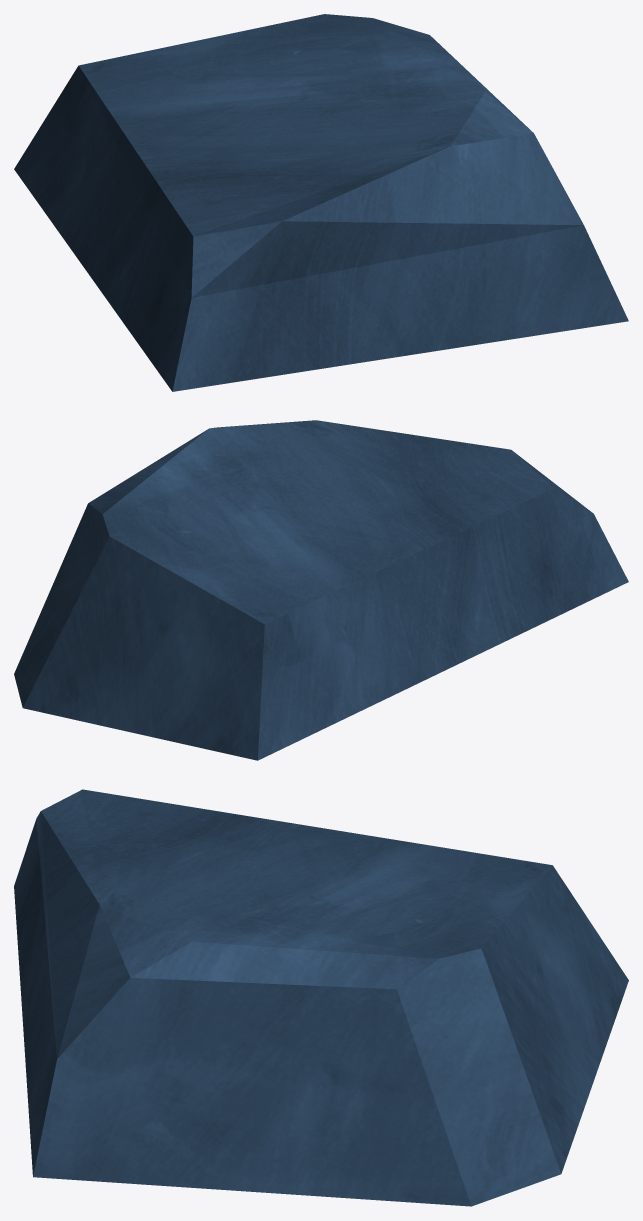
The model's file is stone3.glb.
The picture shows the model from 3 angles, top to bottom: view 1: azimuth 30°, elevation 25°; view 2: azimuth 150°, elevation 25°; view 3: azimuth 270°, elevation 25°; orthographic projection. The views are drawn at different scales.
Visible parts, largest first — view 1: flat stone; view 2: flat stone; view 3: flat stone.
Part boxes in pixels (x1,y1,x2,y2): flat stone: (14, 14, 628, 391); flat stone: (14, 420, 628, 760); flat stone: (14, 789, 628, 1206).
Bounding box in the file's own units: 2.29 × 0.9289 × 2.38.
1 material, 1 textured.
